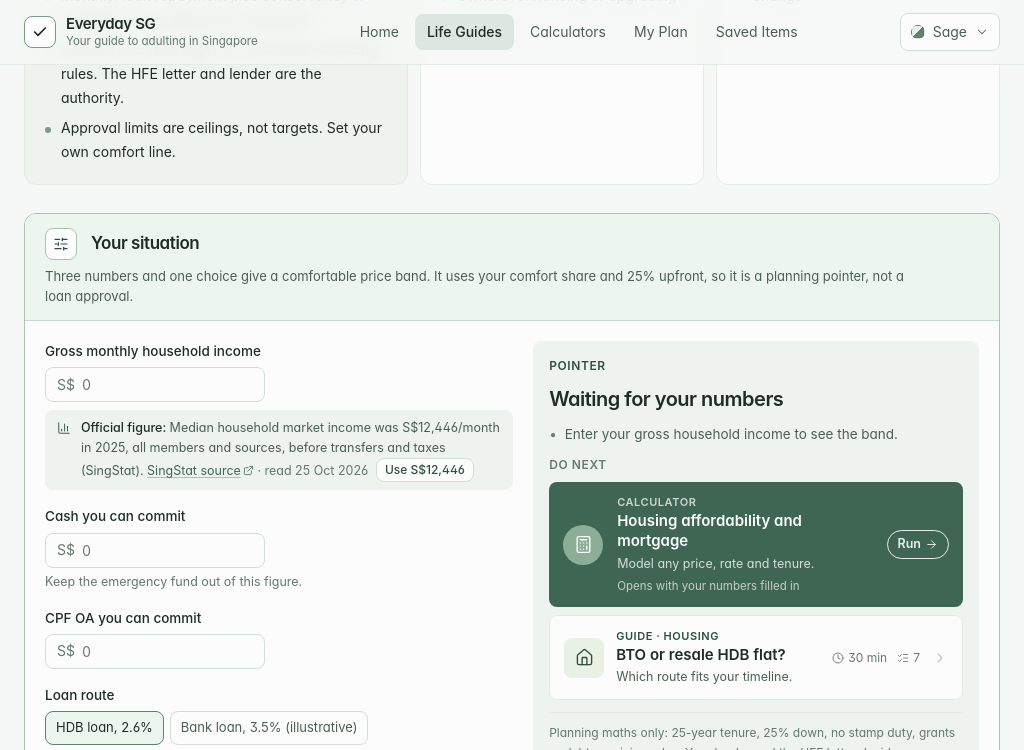
Test: pages render › guide page: quick check answers change the verdict, a related guide opens with a trail bar, and a calculator opens pre-filled
The image size is (1024, 750).
(page scrolled)
Expected: the heading "Your situation" is shown, [91,231,199,257]
Expected: the heading "Waiting for your numbers" is shown, [549,387,783,411]
Type "9000" into the field labelled "Gross monthly household income" at (155, 385), box [45,367,265,402]
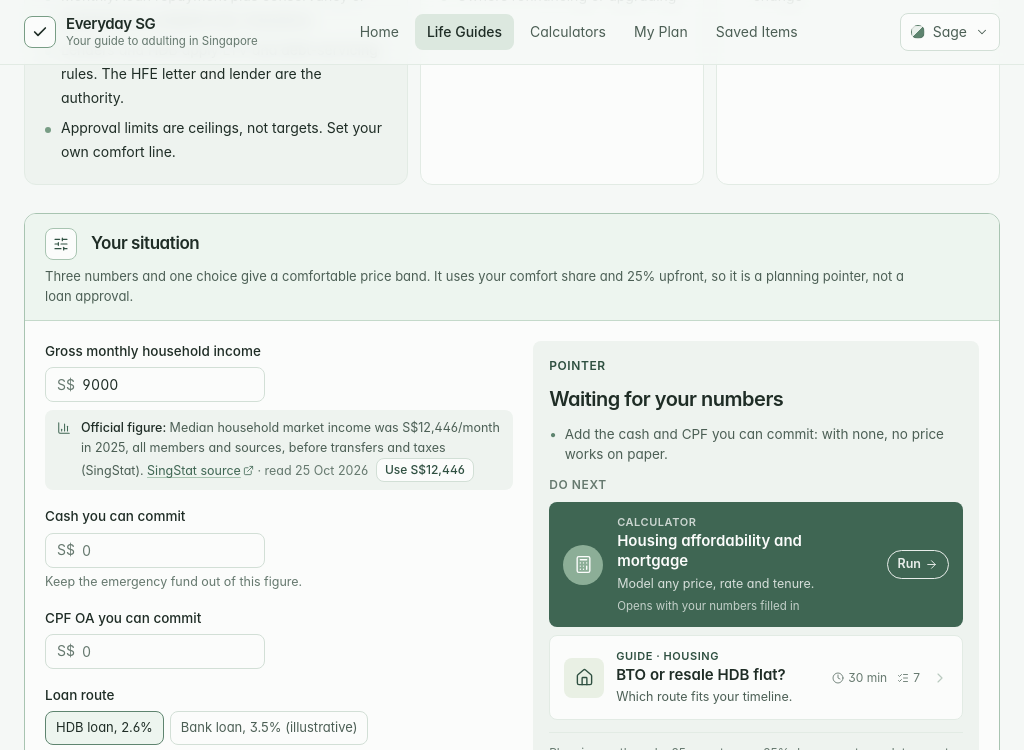
Type "60000" into the field labelled "Cash you can commit" at (155, 550), box [45,532,265,568]
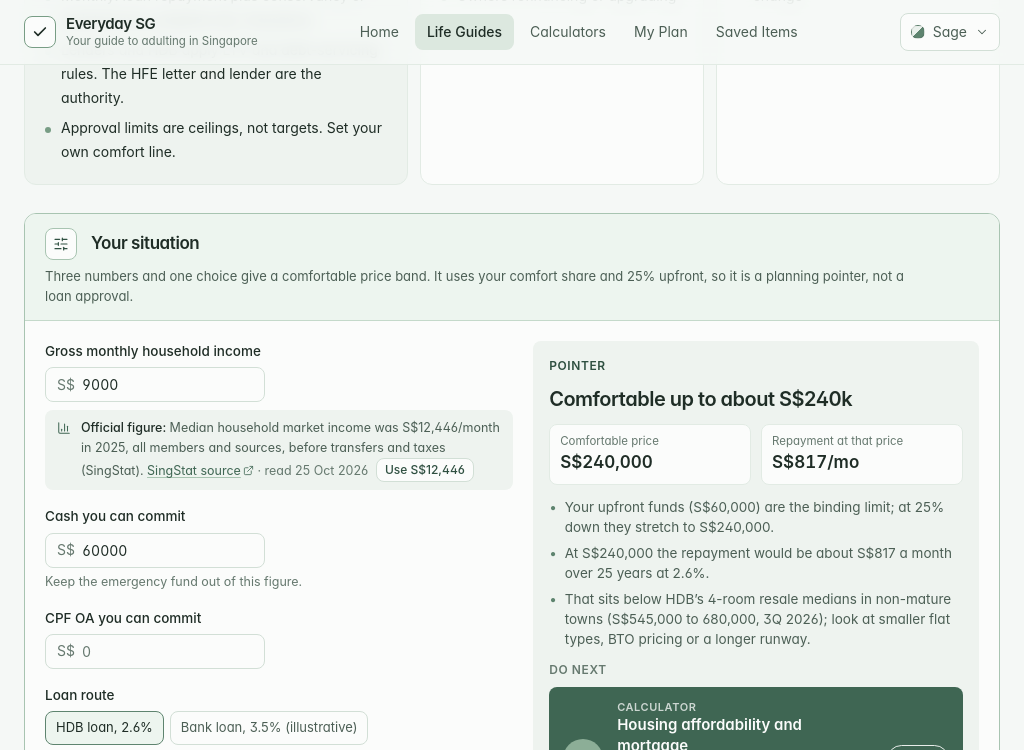
Type "90000" into the field labelled "CPF OA you can commit" at (155, 651), box [45,634,265,669]
(page scrolled)
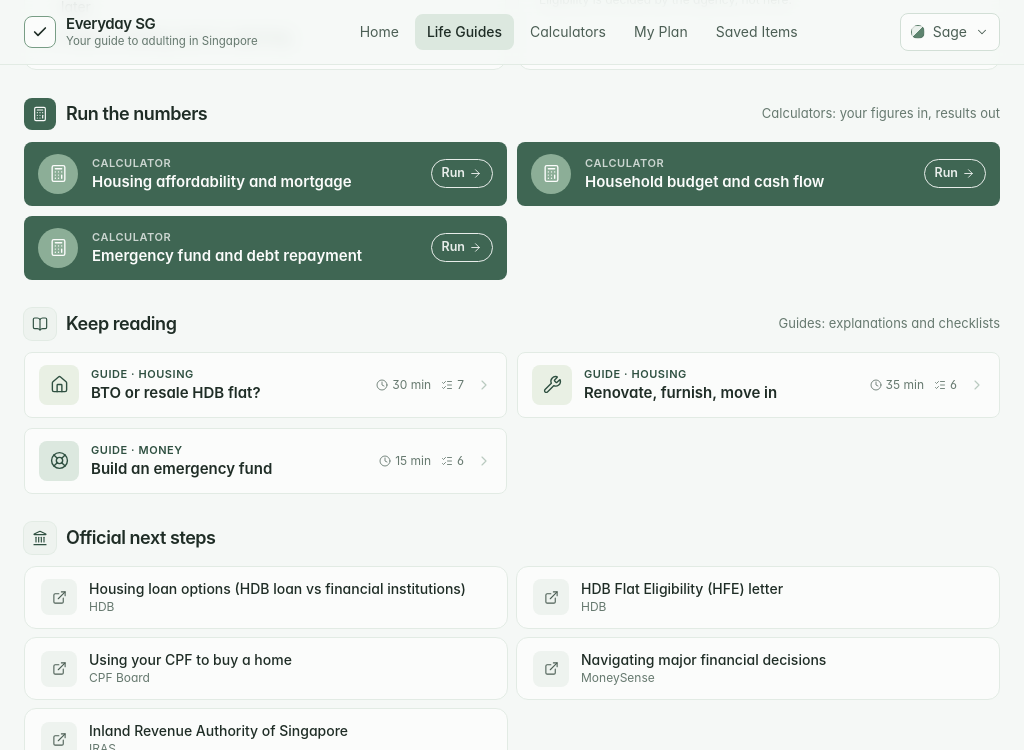
keep reading → another guide, with the trail bar
Click the link "Guide · Housing BTO or resale HDB flat? 30 min 7" at (59, 385), box [24,352,507,418]
(page scrolled)
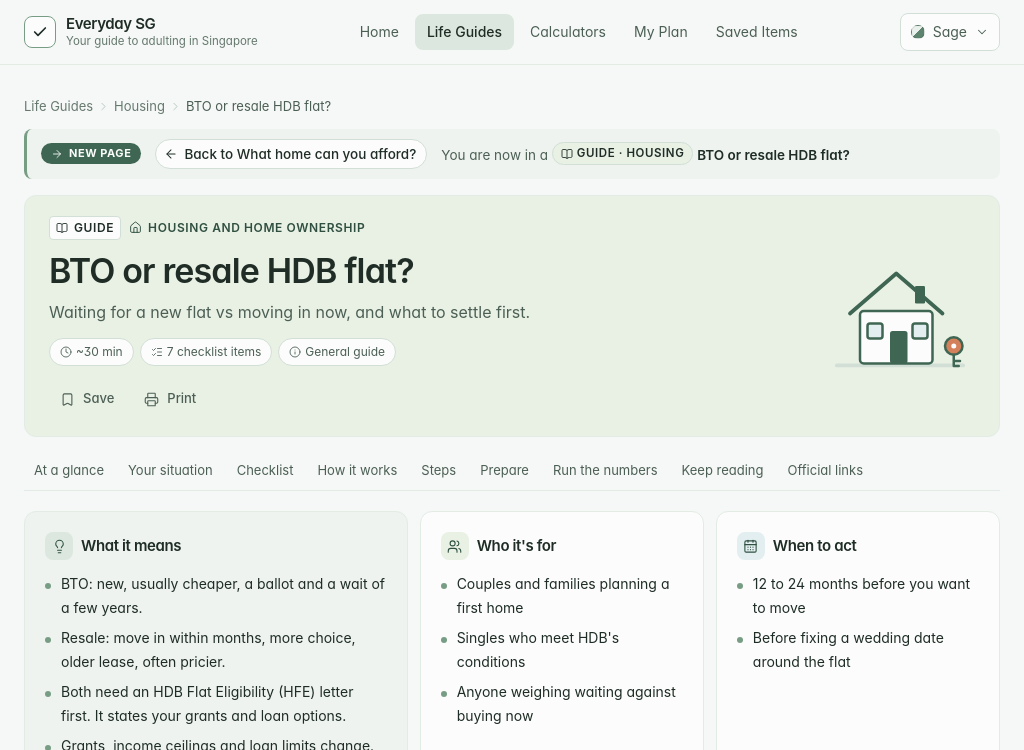
Expected: the heading "BTO or resale HDB flat?" is shown, [49,250,414,291]
Expected: the text "New page" is shown, [41,143,141,164]
Expected: the button "Back to What home can you afford?" is shown
run the numbers → calculator, pre-filled from the quick check
Click the button "Back to What home can you afford?" at (291, 154), box [155,138,427,169]
(page scrolled)
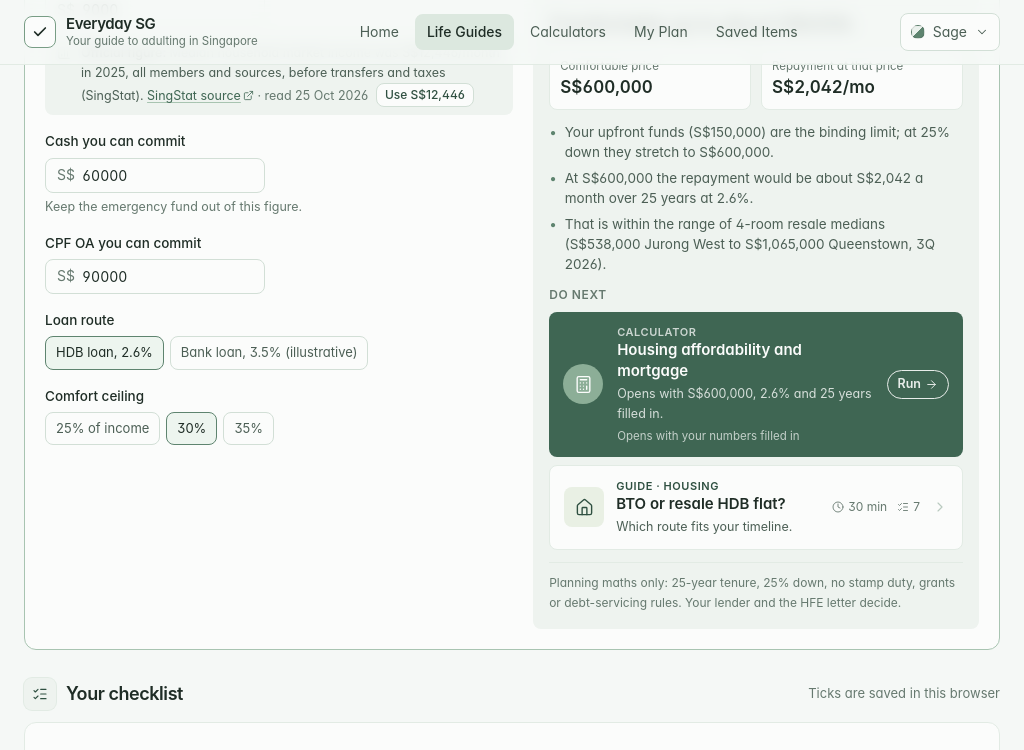
Click the link "Housing affordability and mortgage" at (756, 384), box [549,312,963,457]
(page scrolled)
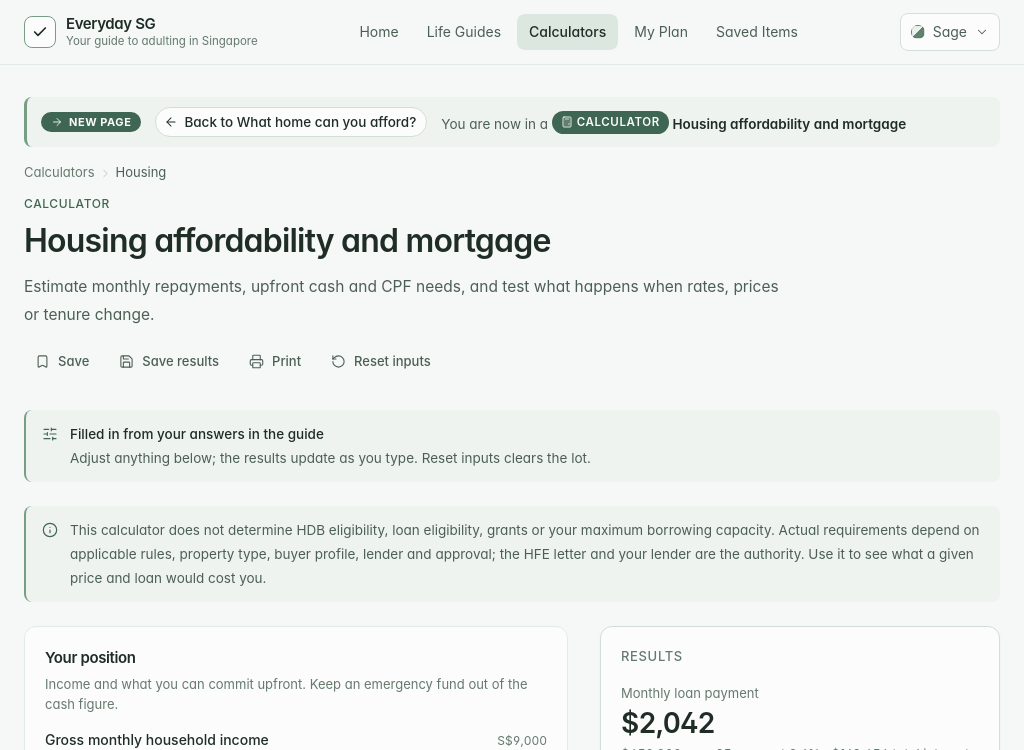
Expected: the heading "Housing affordability and mortgage" is shown, [24,221,551,260]
Expected: the text "Filled in from your answers in the guide" is shown, [70,426,324,442]
Expected: the text "You are now in a" is shown, [441,115,548,131]
